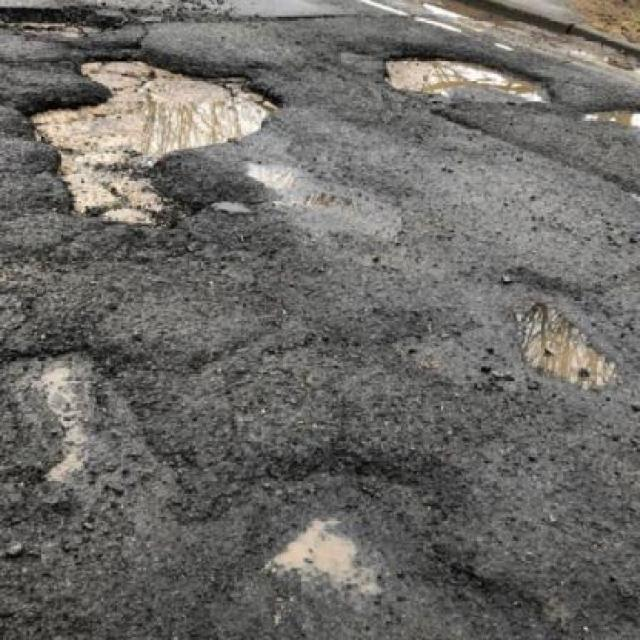pothole: (11, 46, 286, 229), (496, 259, 624, 396), (370, 42, 559, 115), (0, 0, 126, 40), (576, 101, 638, 133)
